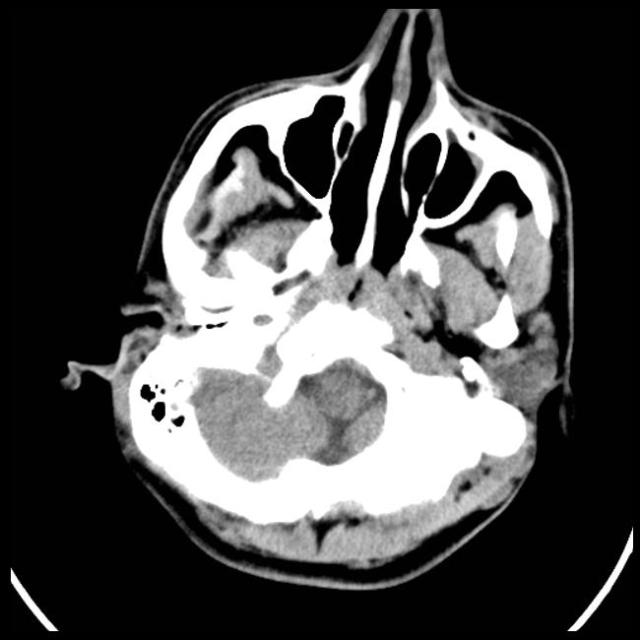lesion: (63, 8, 581, 592)
